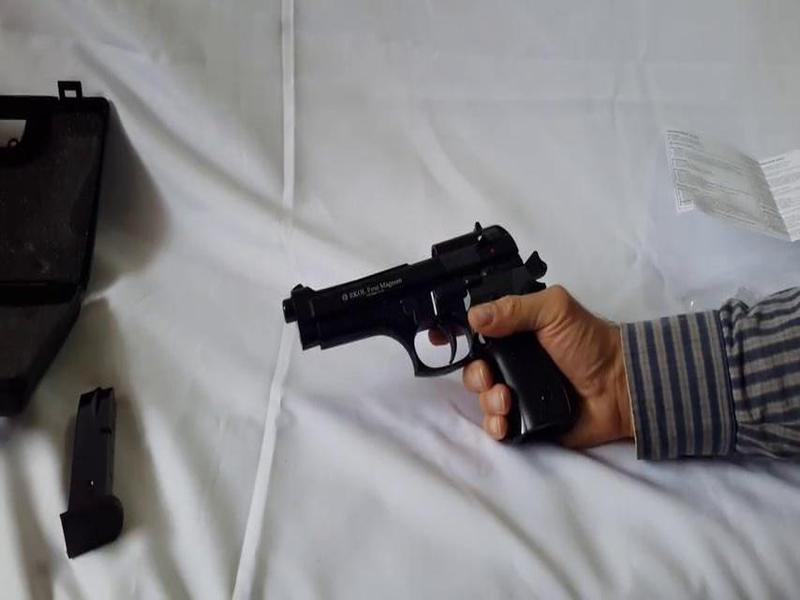Pistola: (269, 211, 595, 448)
